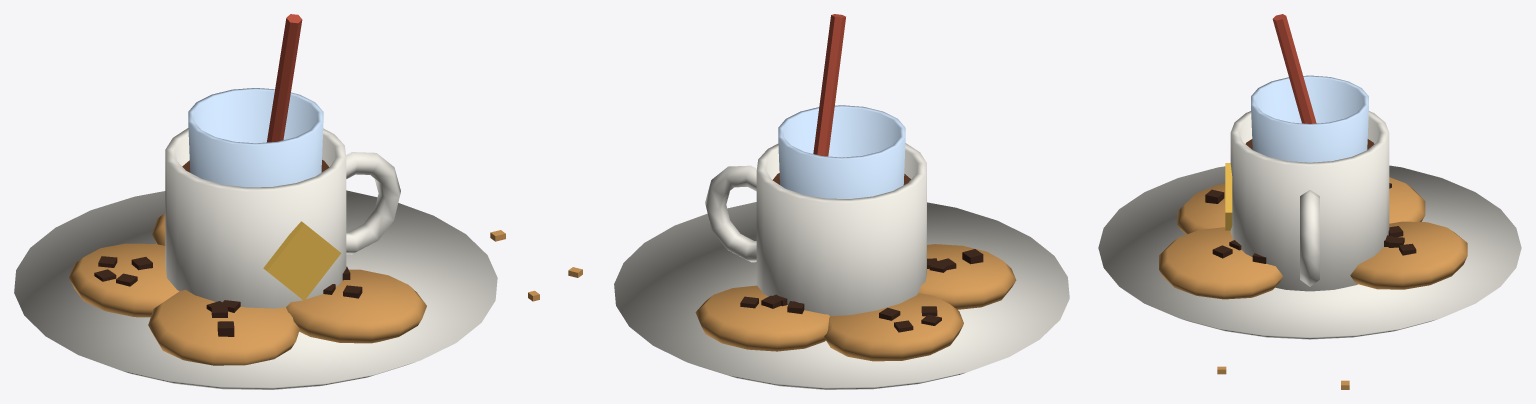
File: snacks.glb
3 views of the same model, side by side, from view 1: azimuth 30°, elevation 25°; view 2: azimuth 150°, elevation 25°; view 3: azimuth 270°, elevation 25° (orthographic). The views are drawn at different scales.
Visible parts, largest first — view 1: CookiePlate, Mug, JuiceGlass; view 2: CookiePlate, Mug, JuiceGlass; view 3: CookiePlate, Mug, JuiceGlass.
Boxes of the visible parts, x1,y1,x2,y2 form: CookiePlate: (14, 190, 539, 389); Mug: (165, 128, 400, 308); JuiceGlass: (188, 14, 323, 187); CookiePlate: (568, 202, 1069, 389); Mug: (705, 143, 926, 316); JuiceGlass: (778, 14, 905, 198); CookiePlate: (1098, 165, 1521, 389); Mug: (1225, 111, 1389, 291); JuiceGlass: (1251, 14, 1368, 162).
Size of the model in its own units: 0.273 by 0.1688 by 0.24.
